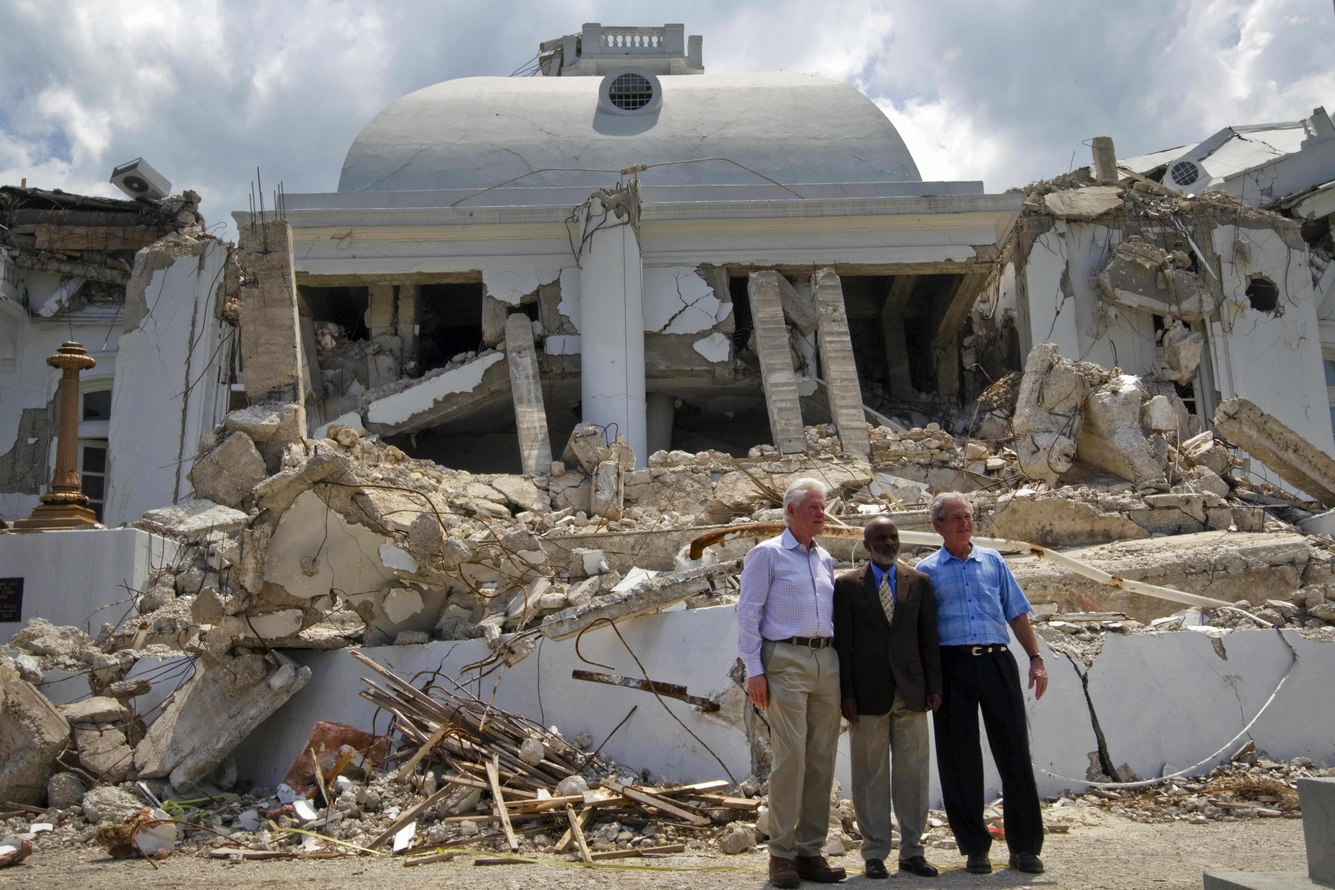victim: (920, 470, 1051, 880), (718, 467, 846, 884), (835, 472, 931, 886)
